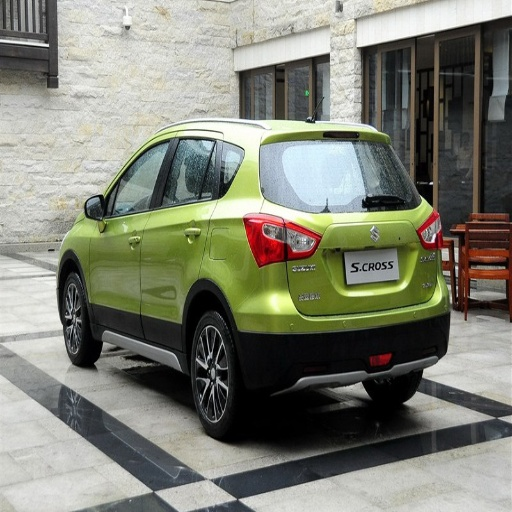back_bumper: (231, 264, 450, 398)
back_glass: (262, 134, 418, 211)
back_left_door: (142, 131, 220, 350)
tailgate: (288, 203, 425, 312)
trunk: (332, 220, 440, 311)
